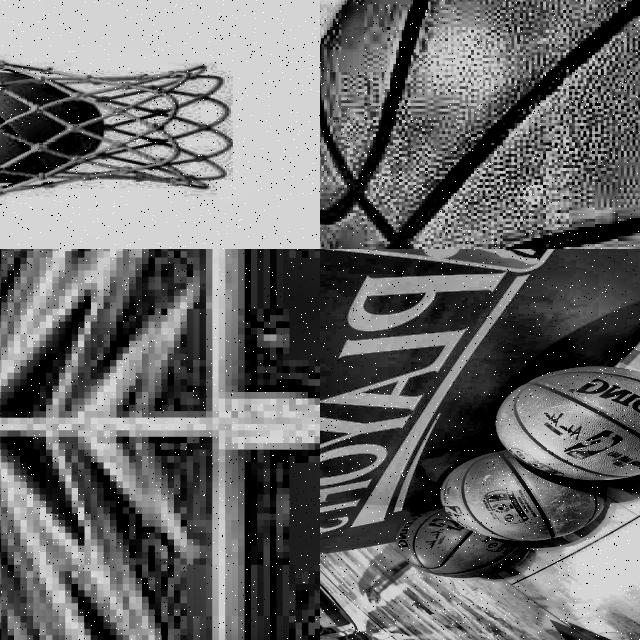Basketball: (396, 365, 640, 577), (0, 72, 103, 184)
